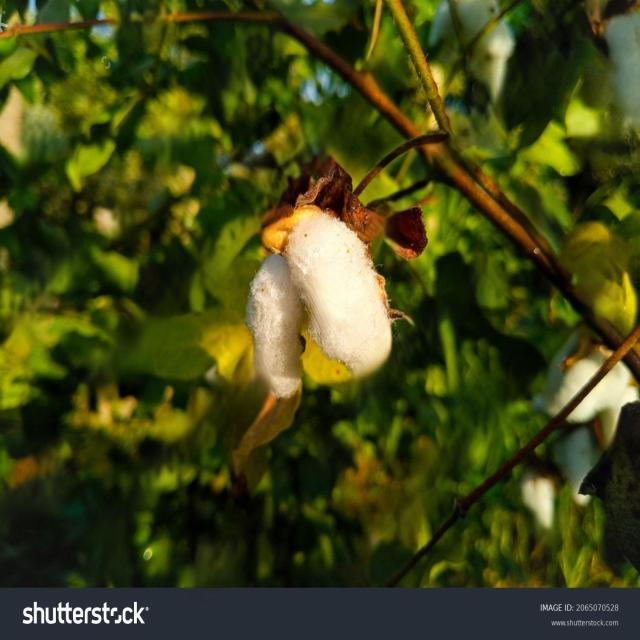Leaf: (226, 139, 455, 418)
